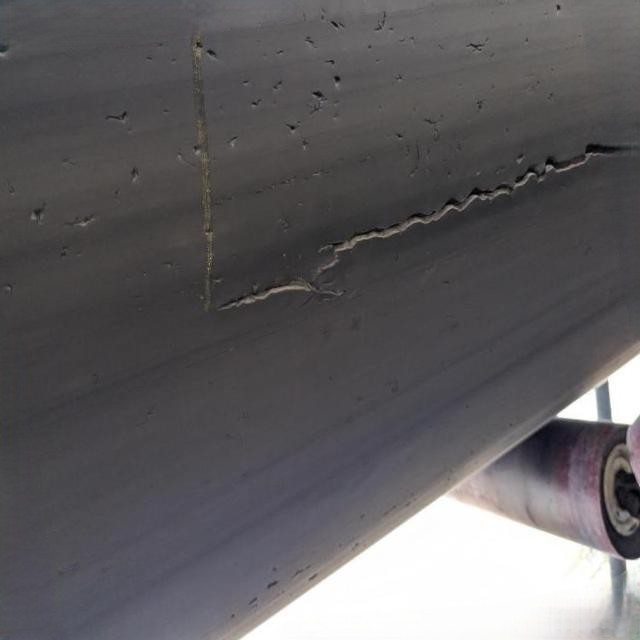Puncture: (28, 202, 51, 227), (234, 4, 253, 22), (512, 148, 530, 166), (126, 168, 144, 184), (295, 135, 312, 151), (327, 70, 344, 86), (324, 18, 343, 32), (310, 88, 328, 102), (284, 120, 300, 135), (302, 34, 316, 48), (190, 142, 204, 156), (206, 44, 218, 59), (192, 38, 204, 52), (0, 43, 9, 57), (555, 2, 565, 13)
Tear: (214, 134, 622, 318), (188, 15, 218, 313), (62, 212, 101, 235), (99, 110, 134, 124), (462, 38, 488, 52)
